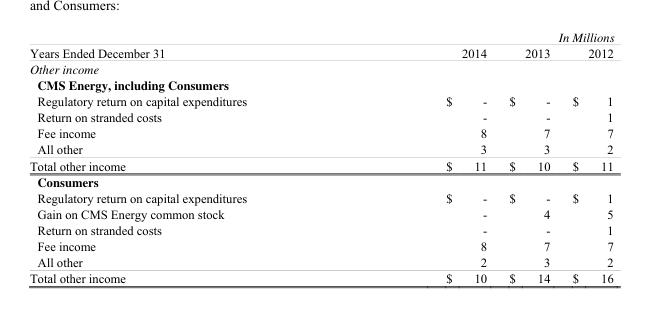table: (28, 28, 613, 284)
table column: (28, 28, 345, 284), (345, 28, 497, 284), (497, 28, 560, 284), (560, 28, 613, 284)
table column header: (28, 28, 613, 60)
table projected row header: (28, 172, 613, 190), (28, 76, 613, 93), (28, 60, 613, 76)
table row: (28, 172, 613, 190), (28, 76, 613, 93), (28, 108, 613, 125), (28, 28, 613, 44), (28, 44, 613, 60), (28, 60, 613, 76), (28, 125, 613, 141), (28, 141, 613, 157), (28, 205, 613, 221), (28, 221, 613, 237), (28, 237, 613, 253), (28, 253, 613, 269), (28, 93, 613, 108), (28, 157, 613, 172), (28, 190, 613, 205), (28, 269, 613, 284)
table spanning cell: (28, 28, 345, 60), (345, 28, 497, 60), (497, 28, 613, 44)
